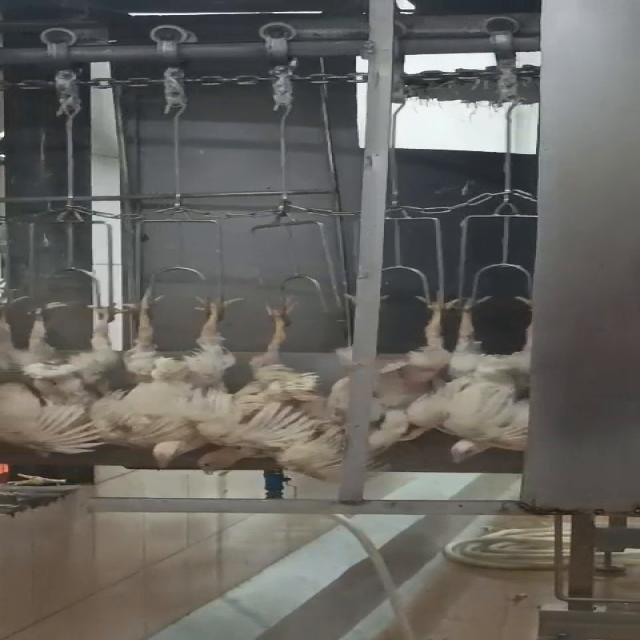chicken: (100, 291, 240, 476), (0, 296, 125, 462), (439, 288, 544, 463), (361, 289, 467, 456), (254, 294, 347, 482)
